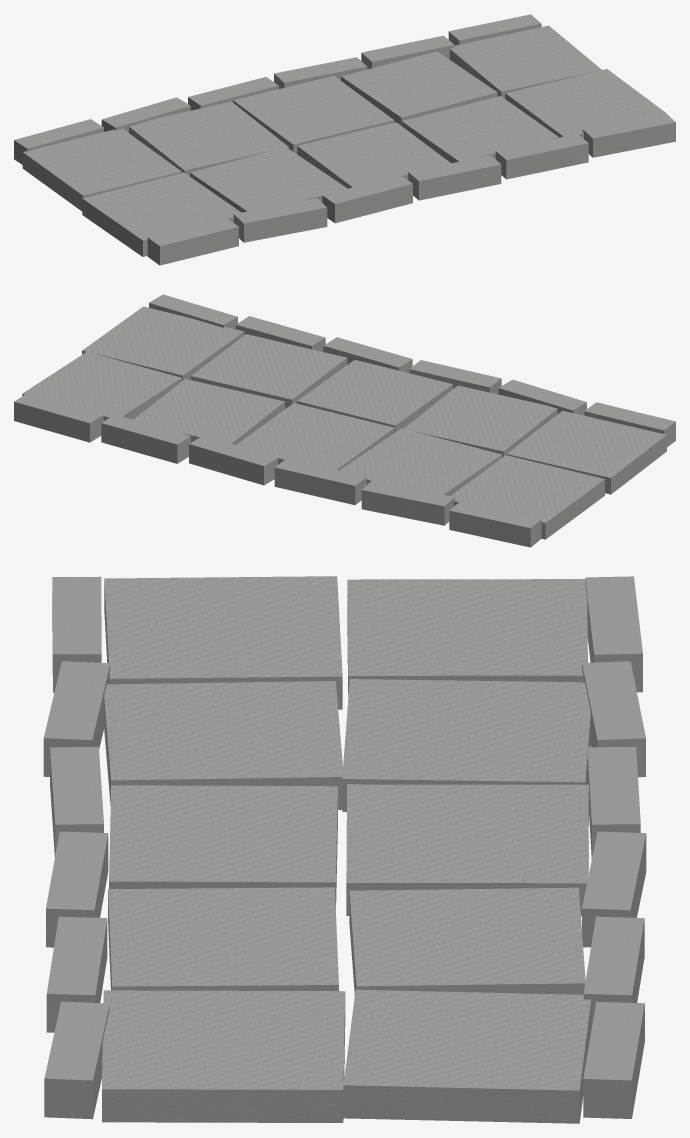
File: andean-terraces-and-stone-village-stone-footpath-modul-53e295b3__38239.glb
3 views of the same model, one above another, from view 1: azimuth 30°, elevation 25°; view 2: azimuth 150°, elevation 25°; view 3: azimuth 270°, elevation 25° (orthographic). The views are drawn at different scales.
Visible parts, largest first — view 1: stone-footpath-module-stone; view 2: stone-footpath-module-stone; view 3: stone-footpath-module-stone.
Part boxes in pixels (left/top/right/bottom): stone-footpath-module-stone: left=14, top=14, right=675, bottom=265; stone-footpath-module-stone: left=14, top=294, right=675, bottom=547; stone-footpath-module-stone: left=43, top=576, right=646, bottom=1123.
Bounding box in the file's own units: 3.99 × 0.1398 × 1.98.
1 material, 1 textured.
